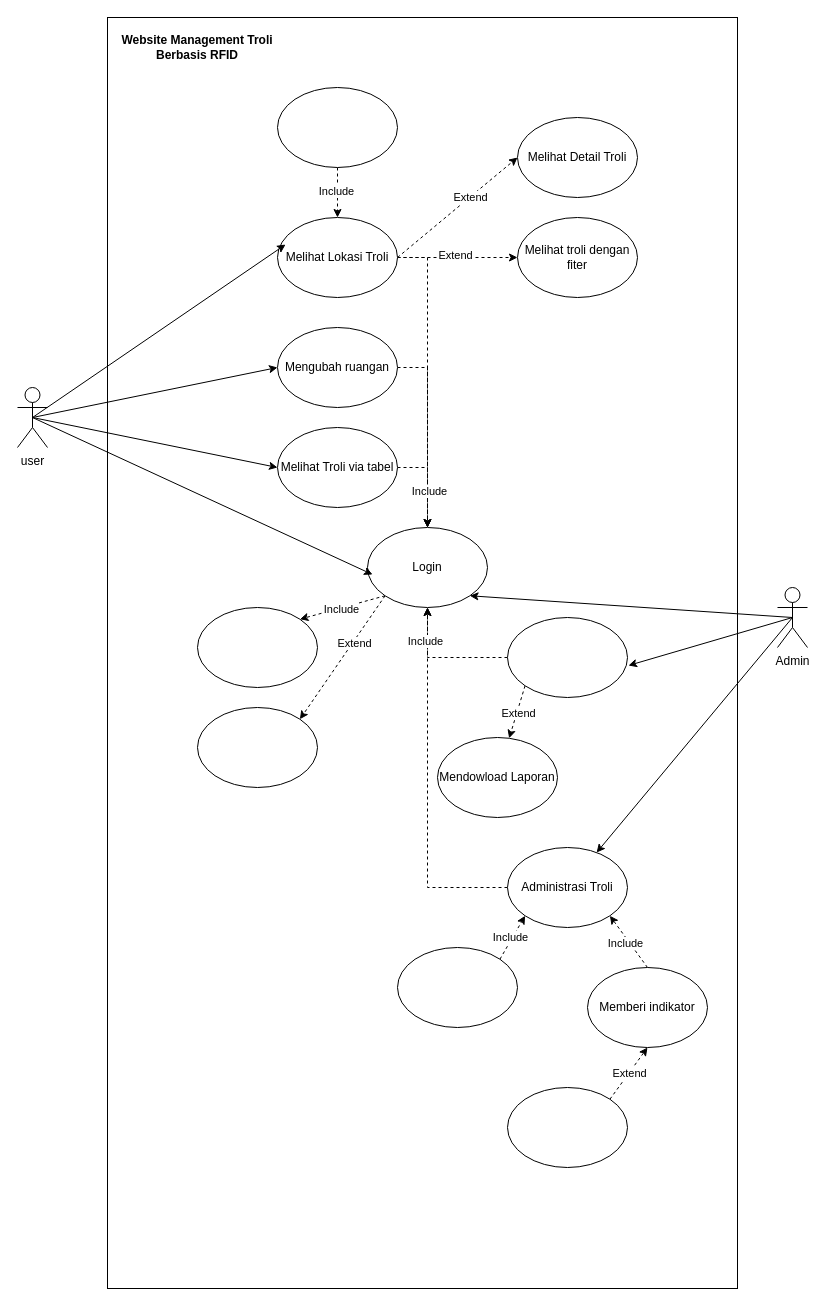
The diagram is 827 pixels wide and 1306 high, and some of its shapes have lost their labels. Here are the shapes that lost their labels. From the top down, the centre of each, then its label:
At pixel 337 127: "Sync RFID Location".
At pixel 257 647: "Validasi data".
At pixel 567 657: "Melihat Laporan Troli".
At pixel 257 747: "Logout".
At pixel 457 987: "CRUD Troli".
At pixel 567 1127: "Membuat Komentar Indikator".
